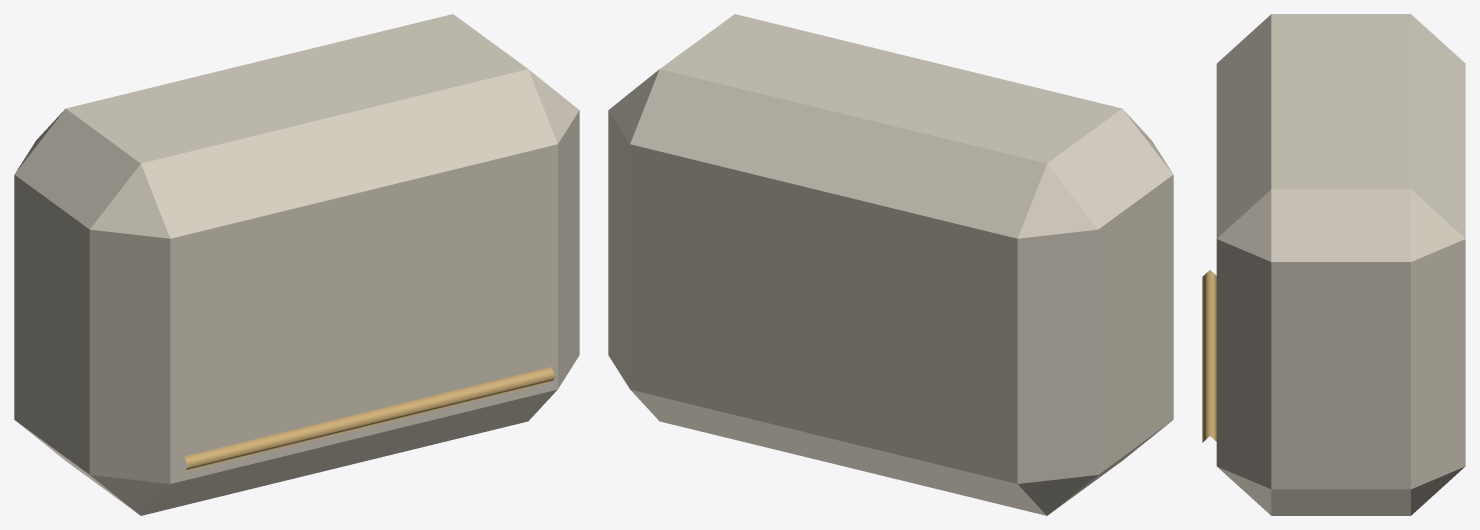
File: clothes.glb
The picture shows the model from 3 angles, left to right: view 1: azimuth 30°, elevation 25°; view 2: azimuth 150°, elevation 25°; view 3: azimuth 270°, elevation 25°; orthographic projection. The views are drawn at different scales.
Visible parts, largest first — view 1: clothes; view 2: clothes; view 3: clothes.
Part boxes in pixels (x1,y1,x2,y2): clothes: [14, 14, 579, 515]; clothes: [608, 14, 1173, 515]; clothes: [1202, 14, 1465, 515].
Size of the model in its own units: 0.36 by 0.2475 by 0.1809.
